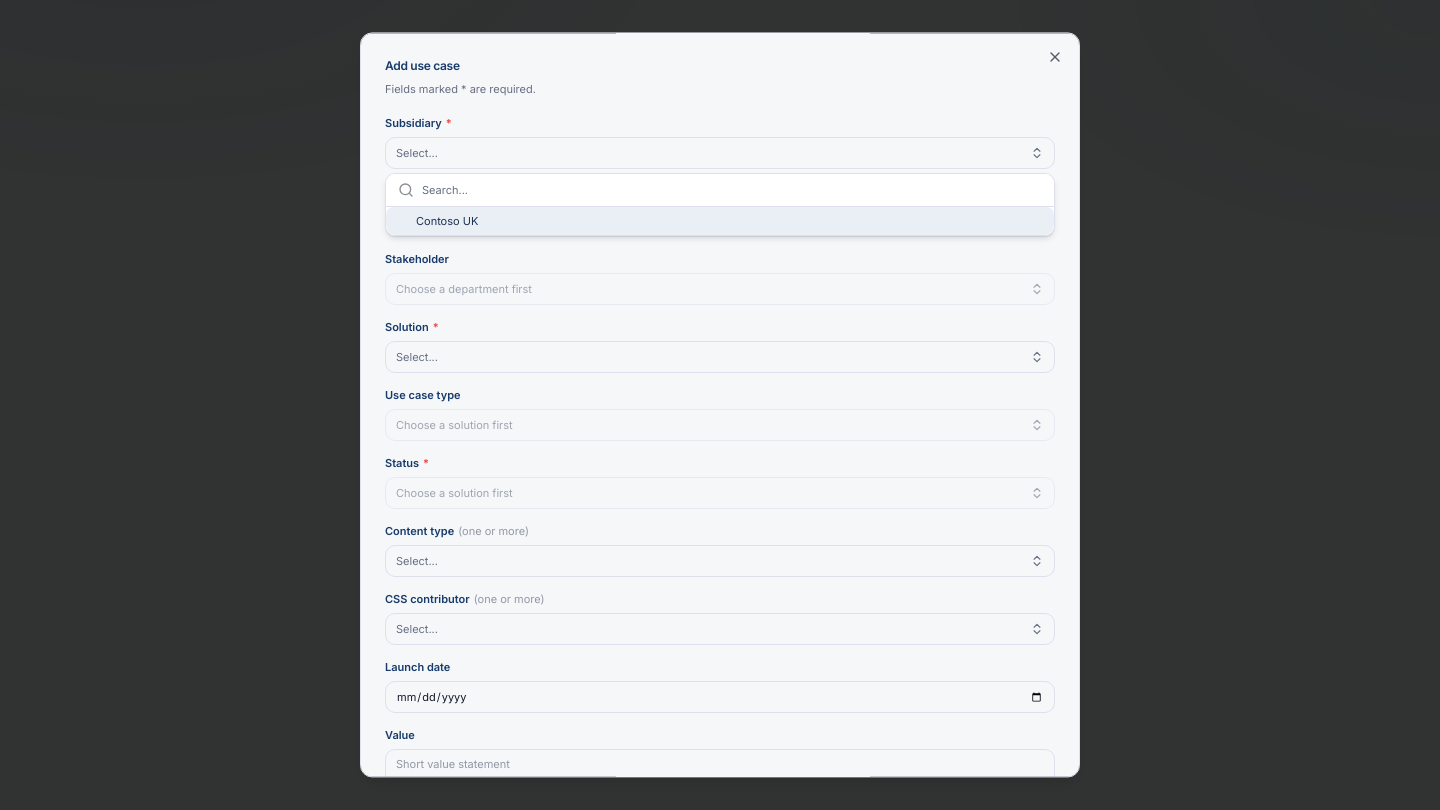
Scenario: UseCaseForm, add › UCF-ADD-004 still toasts Use case added, closes and refreshes the use cases
Earlier steps of the test are not shown.
Click the option "Contoso UK".
click(447, 221)  # box [386, 207, 1054, 235]
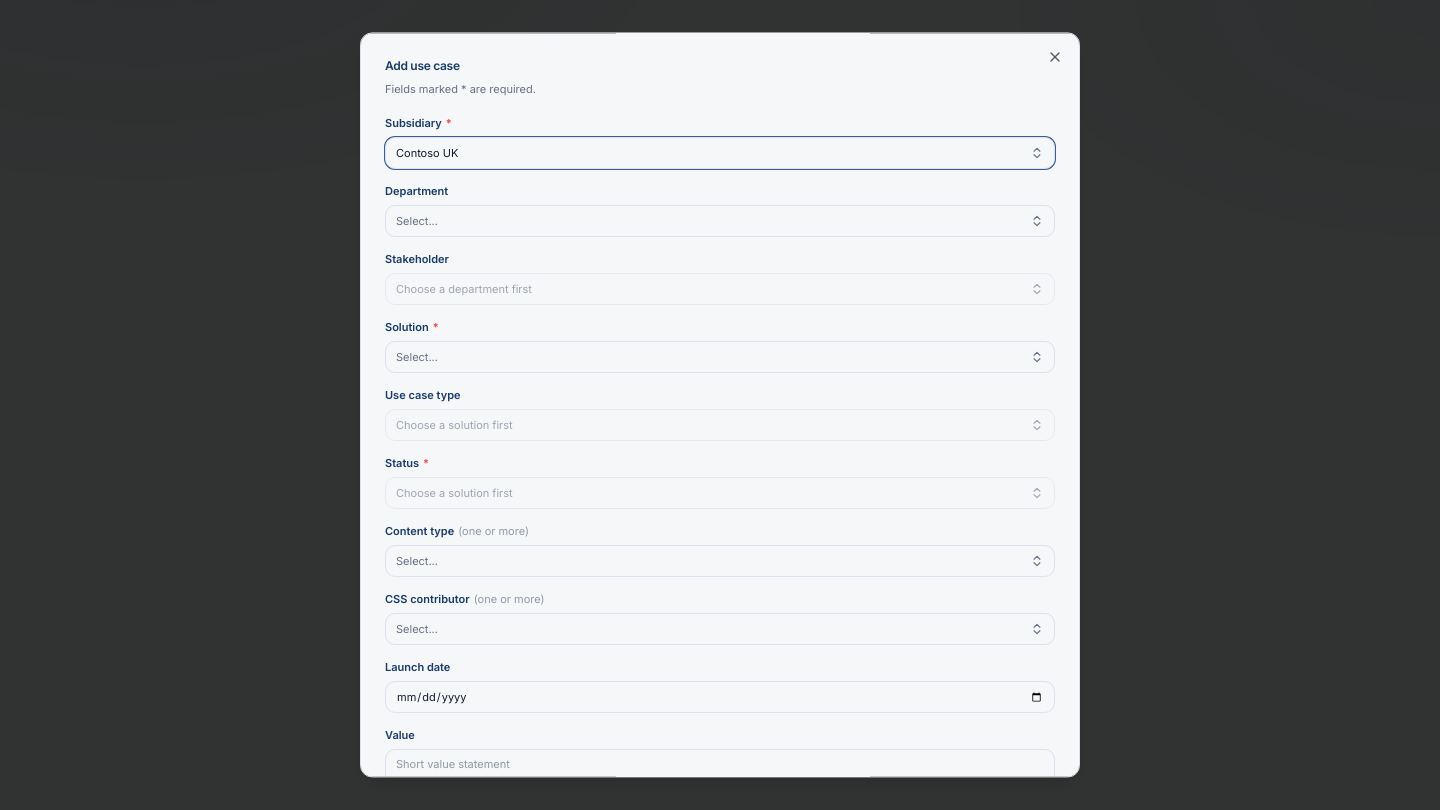
Click the 2nd button "Select...".
click(417, 357)  # box [385, 341, 1055, 373]
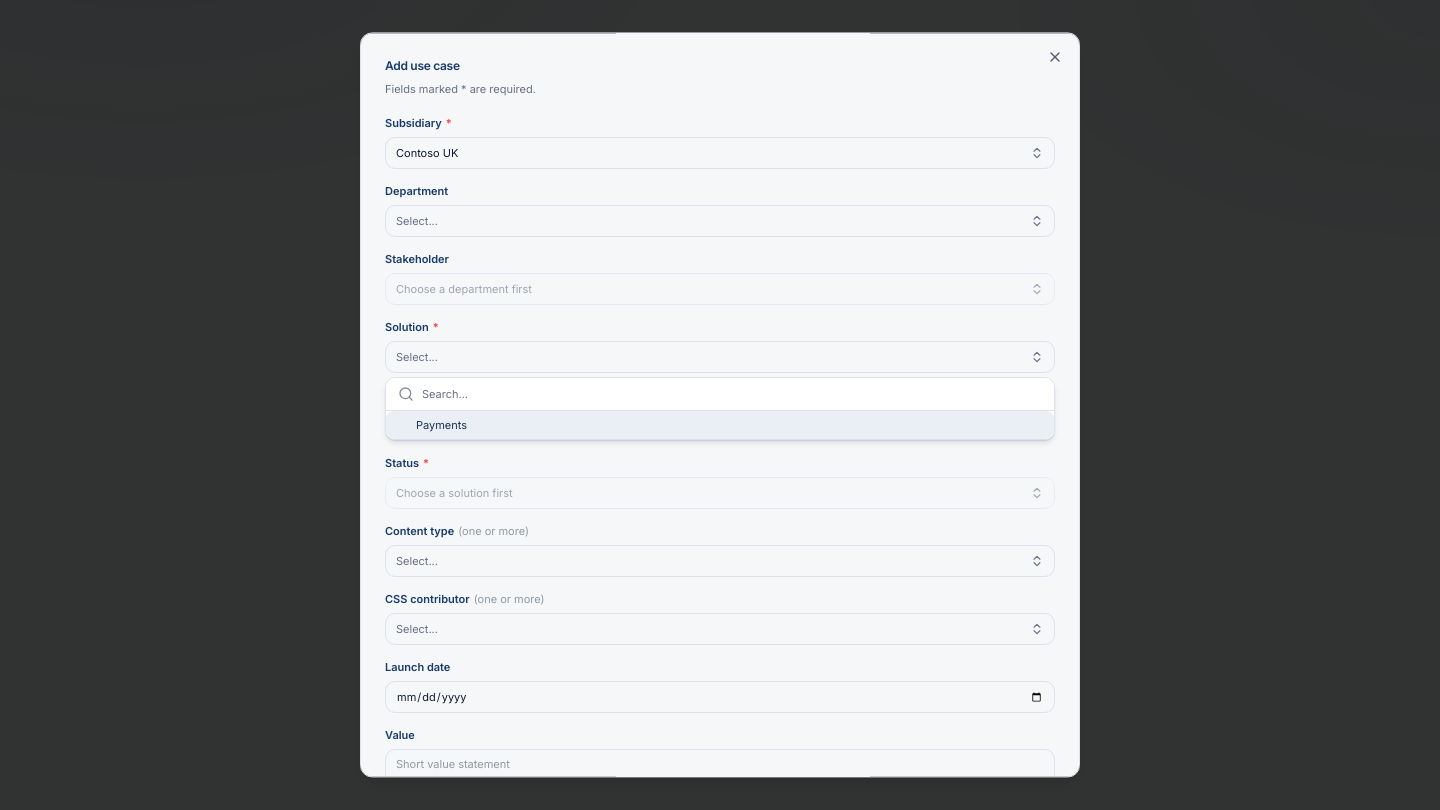
Click the option "Payments".
click(442, 425)  # box [386, 411, 1054, 439]
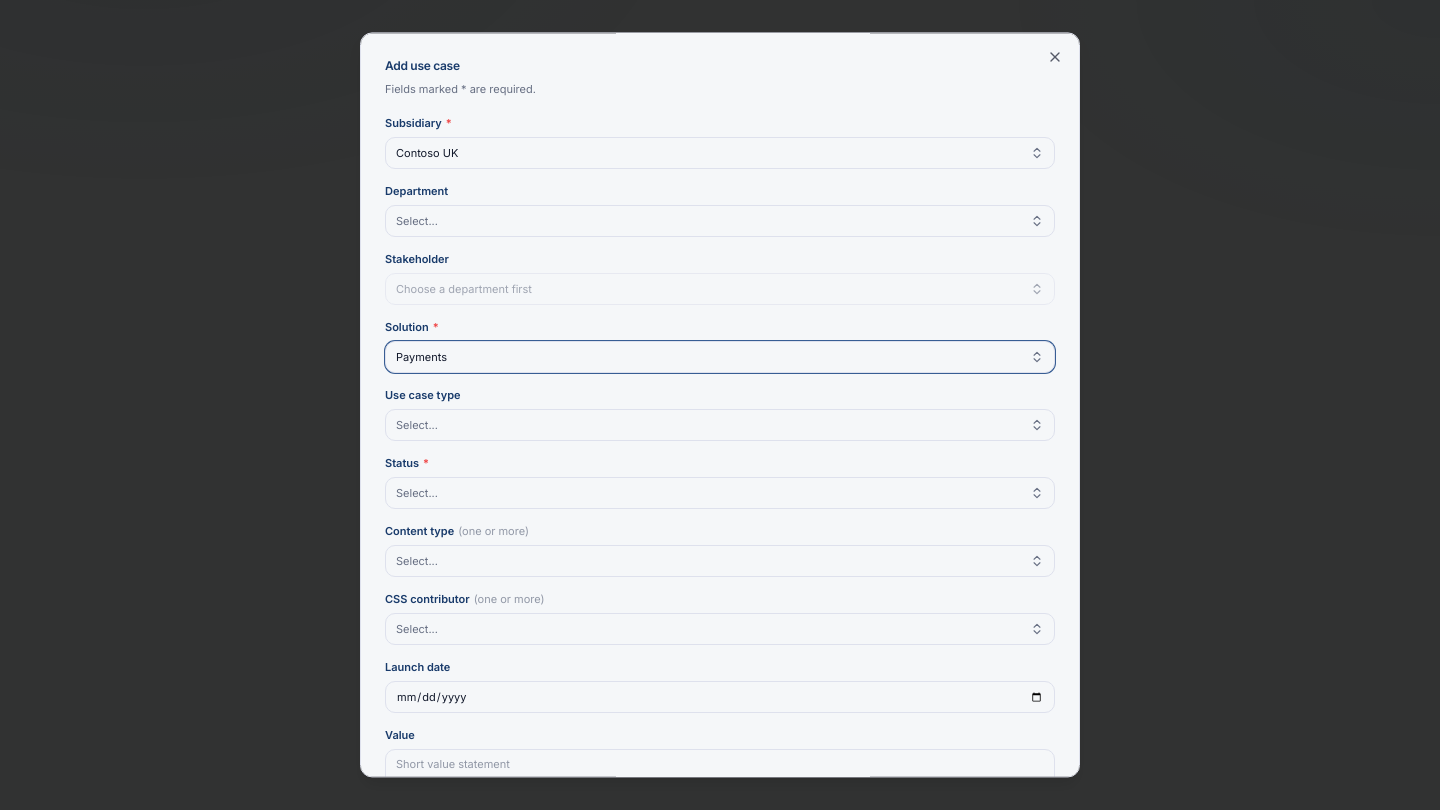
Click the button "Select..." below "Status".
click(417, 493)  # box [385, 477, 1055, 509]
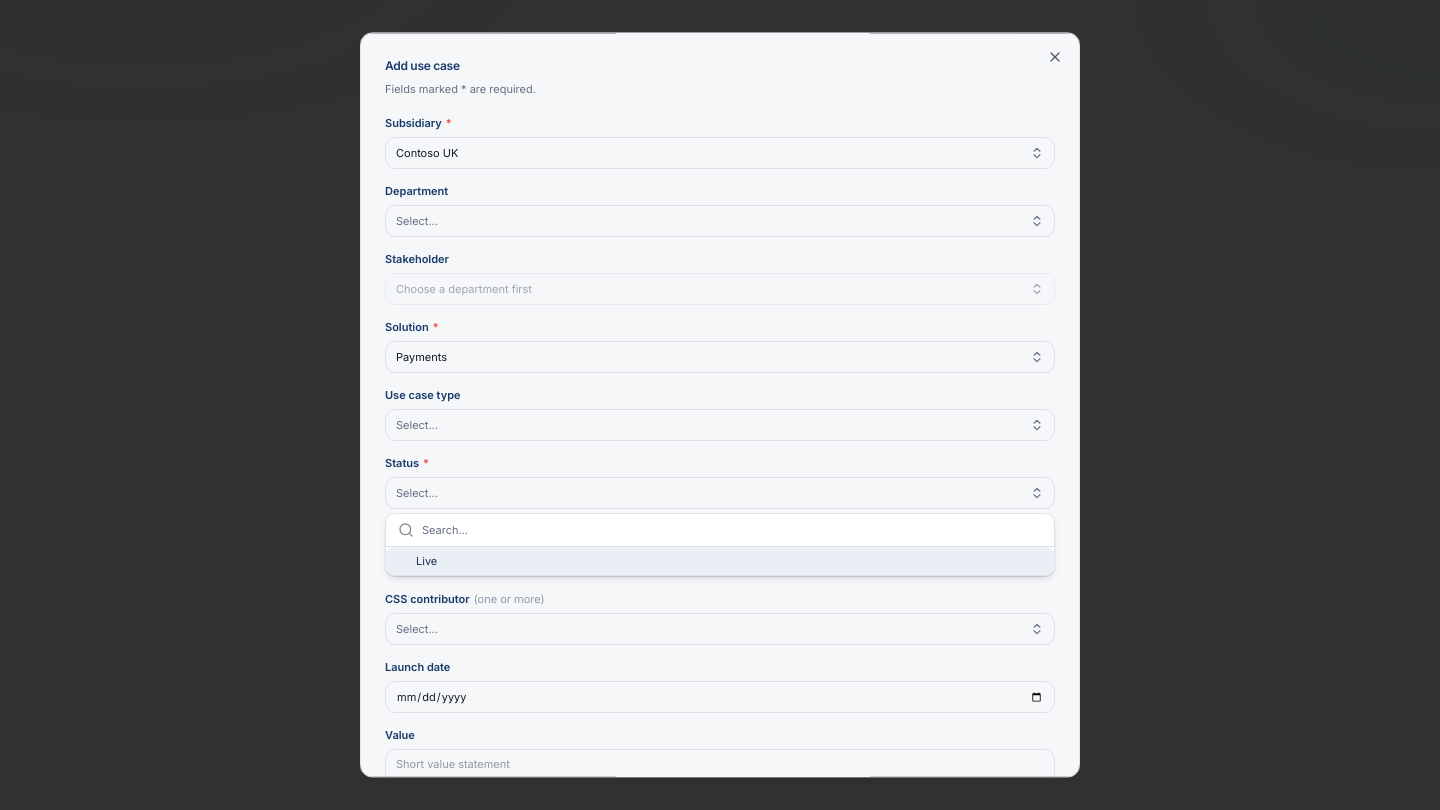
Click the option "Live".
click(427, 561)  # box [386, 547, 1054, 575]
(page scrolled)
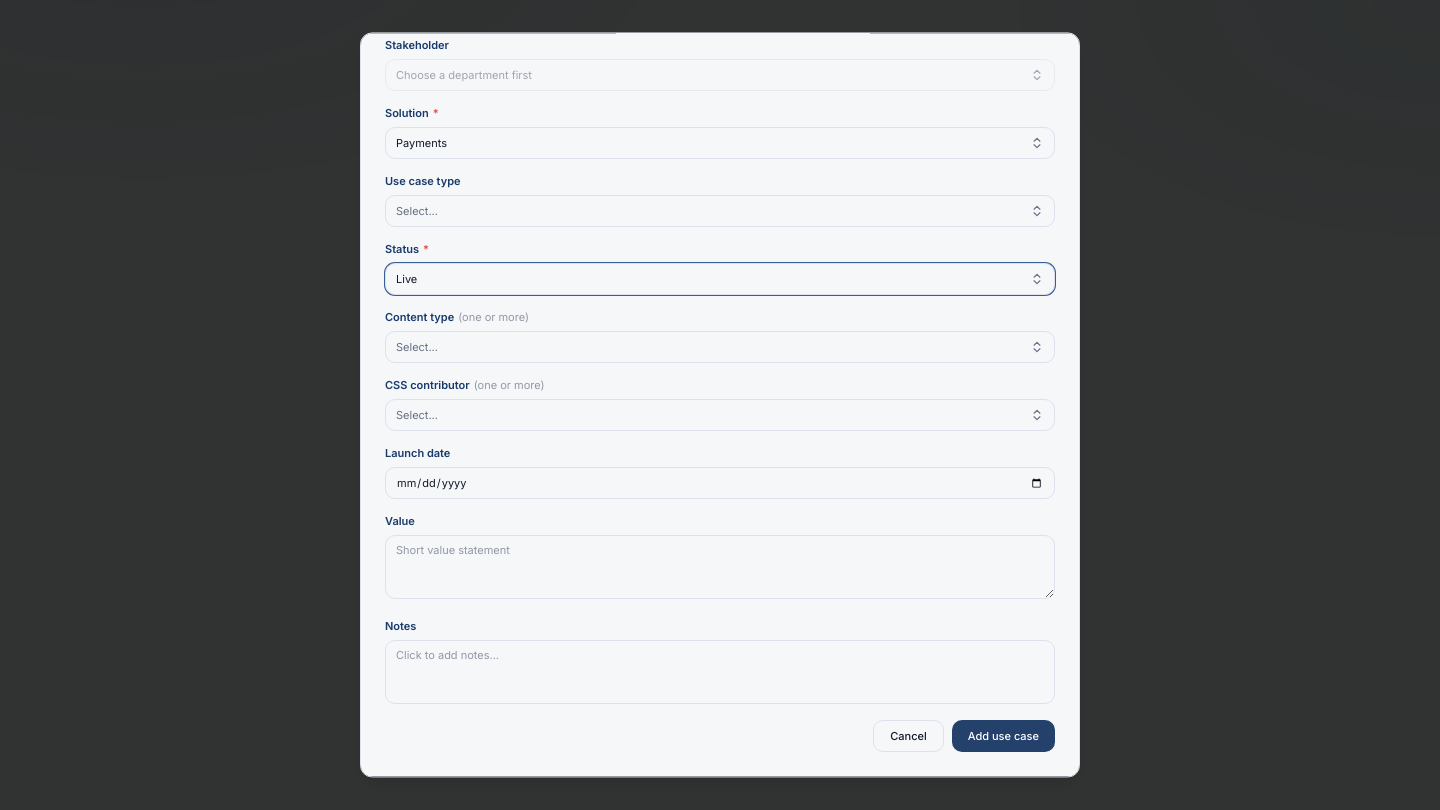
Click the button "Add use case".
click(1003, 736)  # box [952, 720, 1055, 752]
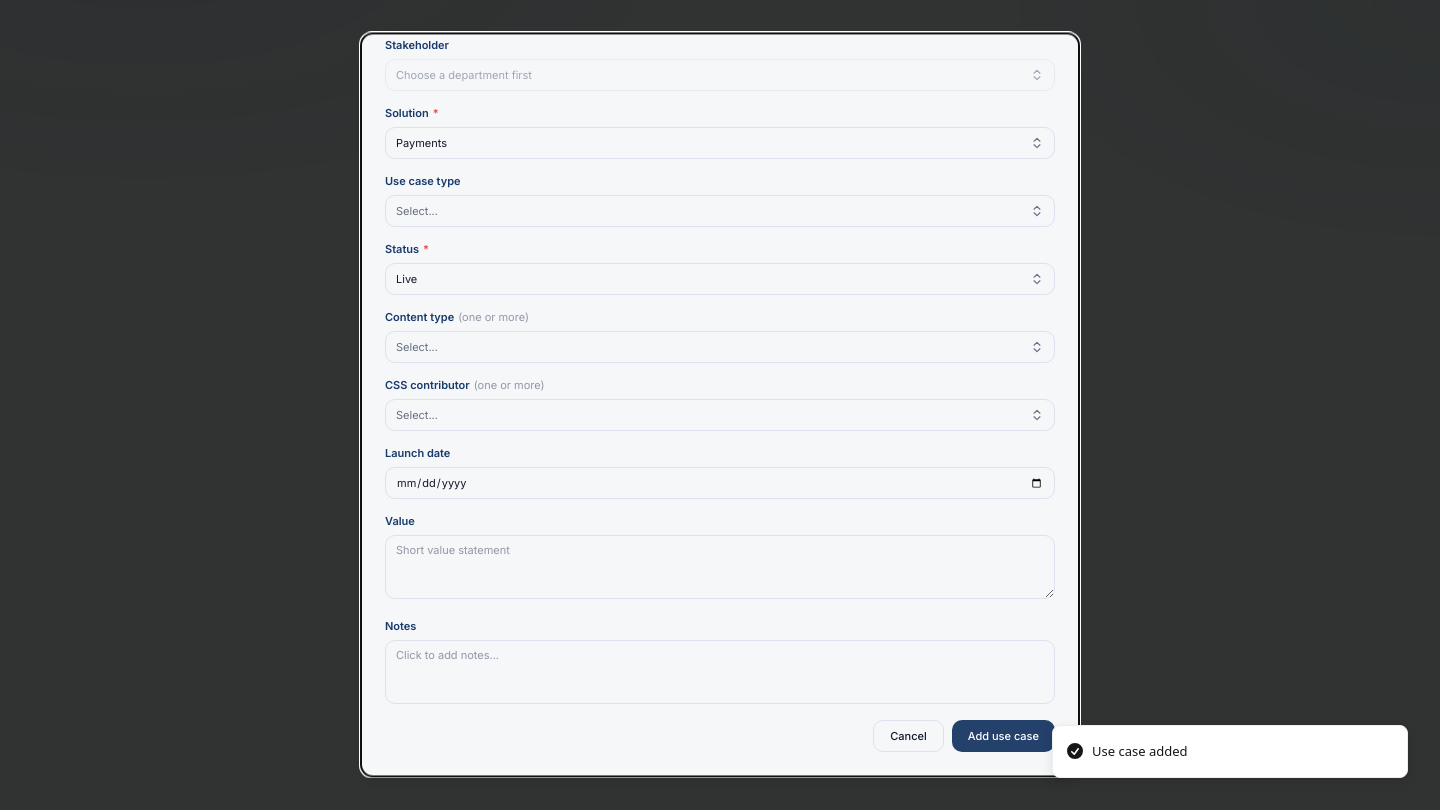
Check: the text "Use case added" is shown, box [1092, 742, 1188, 761]
